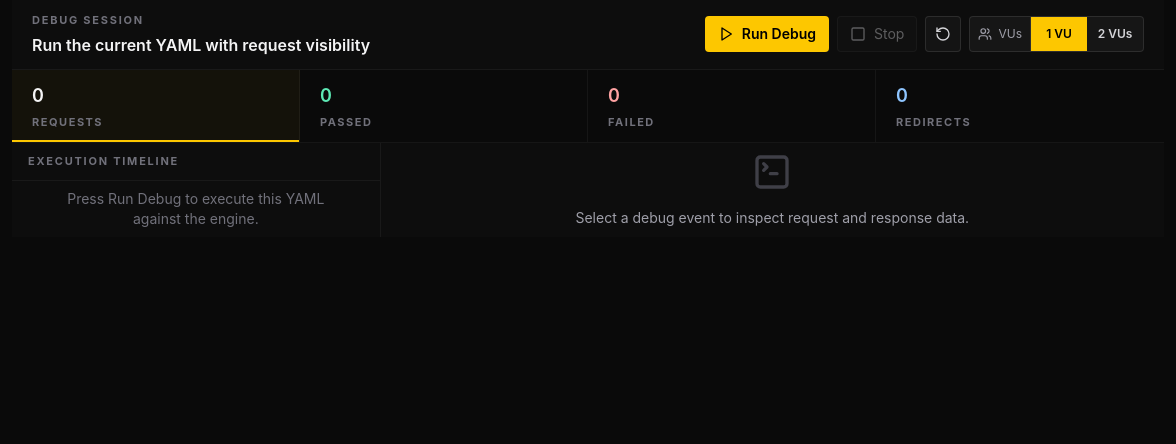
YAMLDebugSession RLP debug fixes › keeps interleaved VUs and repeated Spark executions on their own request (RLP-742)
Click the button "Run Debug": click(767, 34) [705,16,829,52]
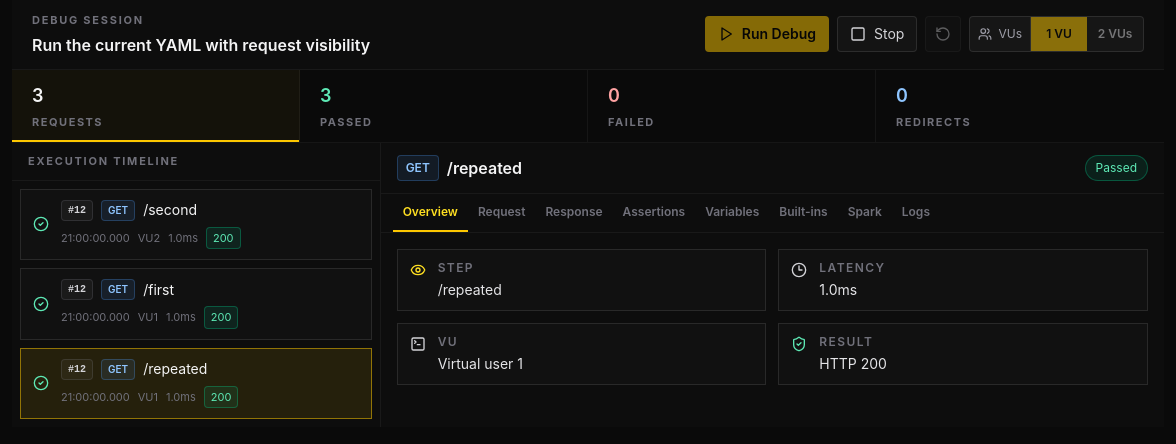
Click the button "Spark": click(865, 213) [838,194,892,232]
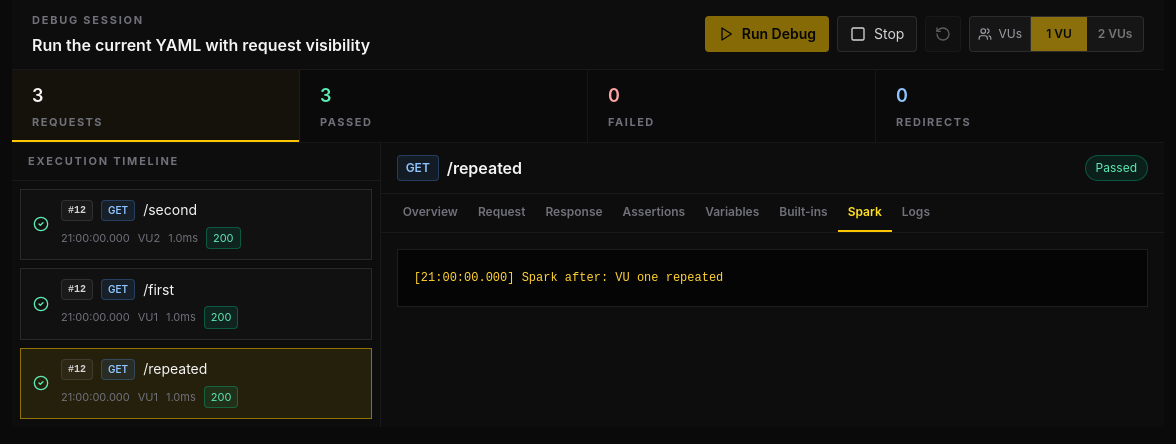
Expected: the text "VU one first" is not shown
Now the text "[21:00:00.000] Spark after: VU one repeated" is shown, box [414,271,723,285]
Click the button named "GET/first": click(77, 290) [20,268,372,340]
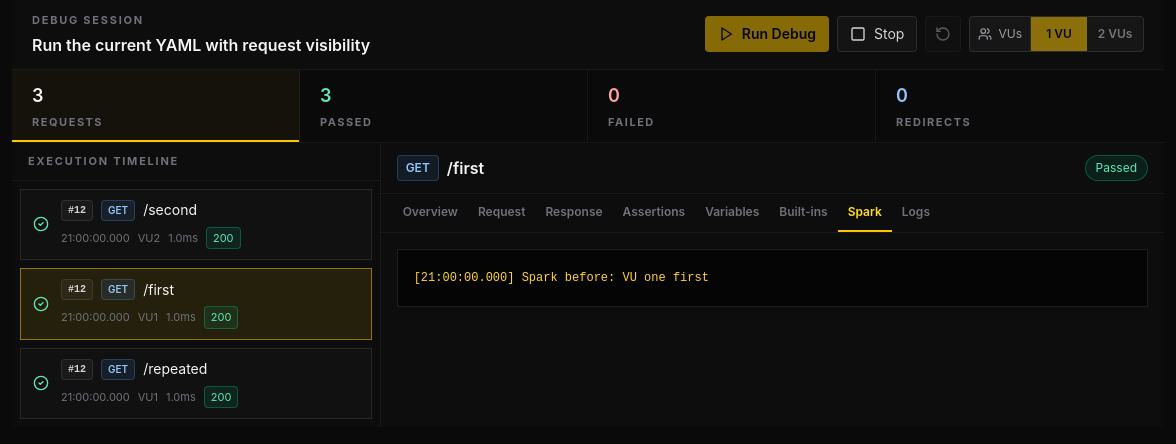
Now the text "[21:00:00.000] Spark before: VU one first" is shown, box [414,271,709,285]
Now the text "VU one repeated" is gone
Click the button named "GET/second": click(77, 210) [20,188,372,260]
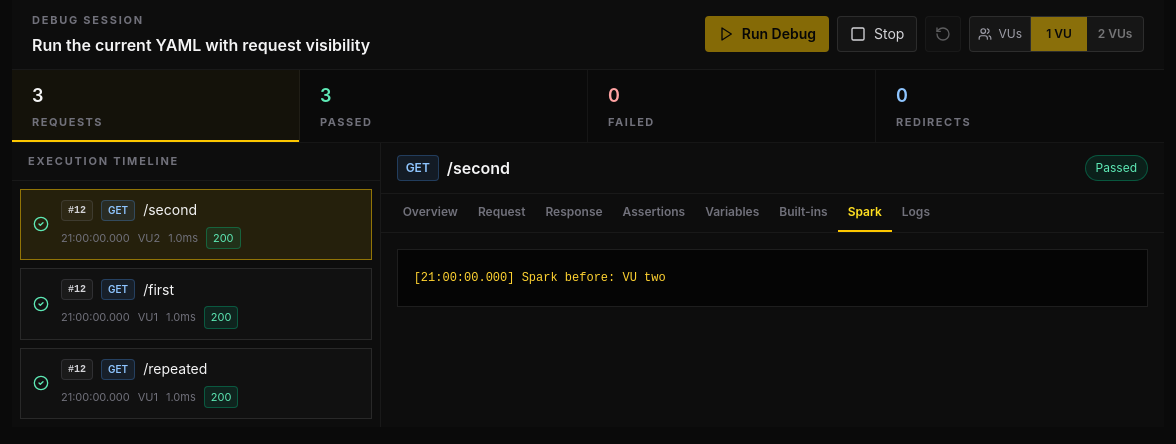
Now the text "[21:00:00.000] Spark before: VU two" is shown, box [414,271,666,285]
Now the text "VU one first" is gone
